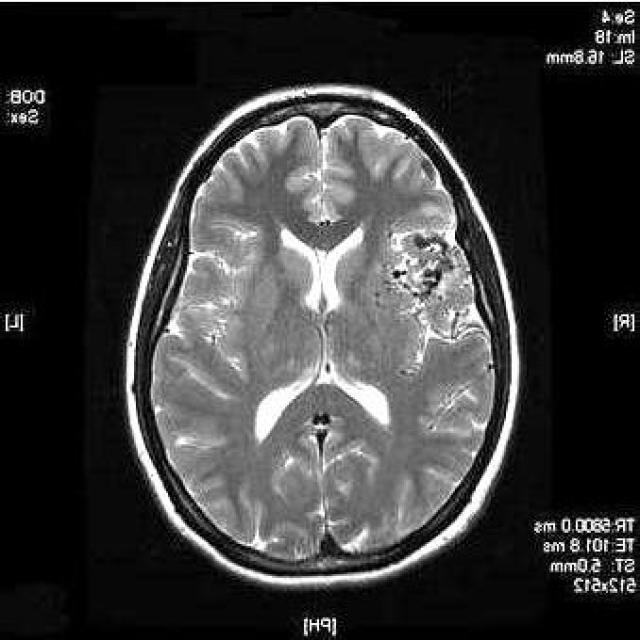notumor: (123, 87, 521, 595)
